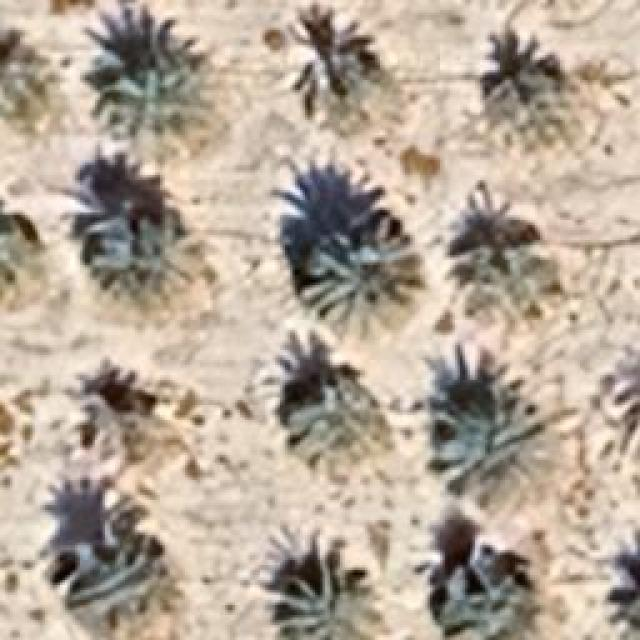PalmTree: (93, 88, 625, 604), (29, 73, 484, 594), (430, 395, 568, 515), (81, 190, 201, 305), (300, 235, 425, 340), (51, 512, 171, 616), (270, 5, 375, 120), (287, 380, 415, 468), (98, 32, 204, 130), (458, 209, 554, 309), (70, 364, 170, 456), (484, 44, 576, 138), (277, 558, 385, 638), (0, 18, 55, 132), (0, 204, 48, 298), (600, 345, 638, 460), (618, 562, 640, 640), (616, 582, 640, 640)
